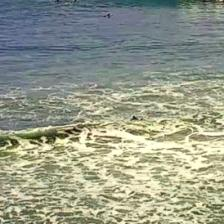surfer: (130, 116, 143, 121), (102, 13, 112, 18), (53, 0, 63, 4), (73, 0, 79, 4)
